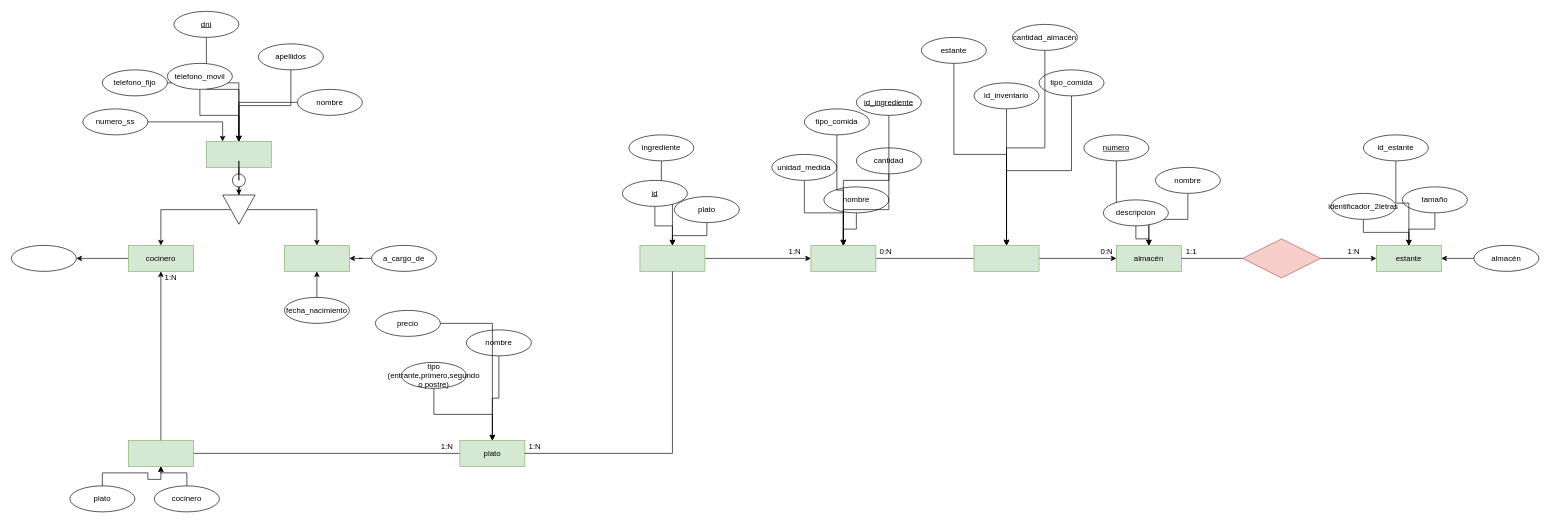
This 1550x523 diagram has some shape labels left out. Here are the shapes that lost their labels. From the top down, the centre of each, then its label:
At point 238,154: "empleado".
At point 43,258: "antigüedad".
At point 316,258: "pinches".
At point 672,258: "plato-ingredientes".
At point 843,258: "ingredientes".
At point 1006,258: "ingrediente-almacén".
At point 1281,258: "tiene".
At point 160,453: "cocinero-plato".
